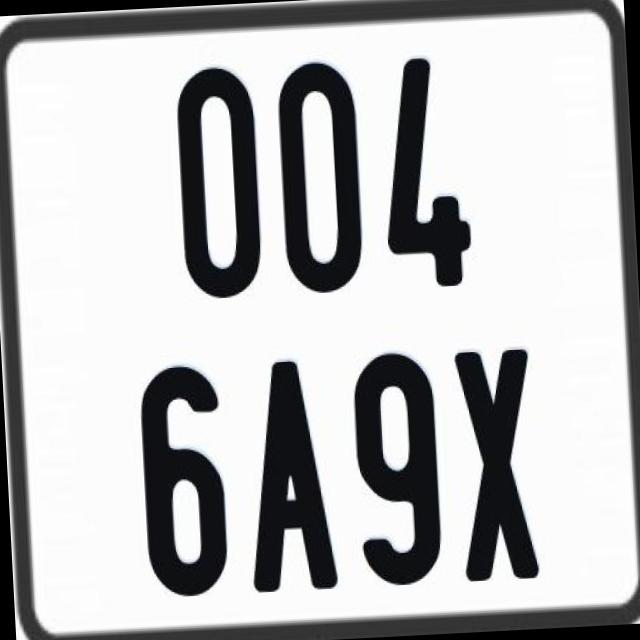0: (273, 60, 368, 303), (174, 66, 264, 304)
4: (376, 54, 472, 290)
6: (136, 360, 234, 596)
9: (350, 351, 445, 595)
A: (240, 358, 344, 592)
X: (451, 349, 538, 586)
